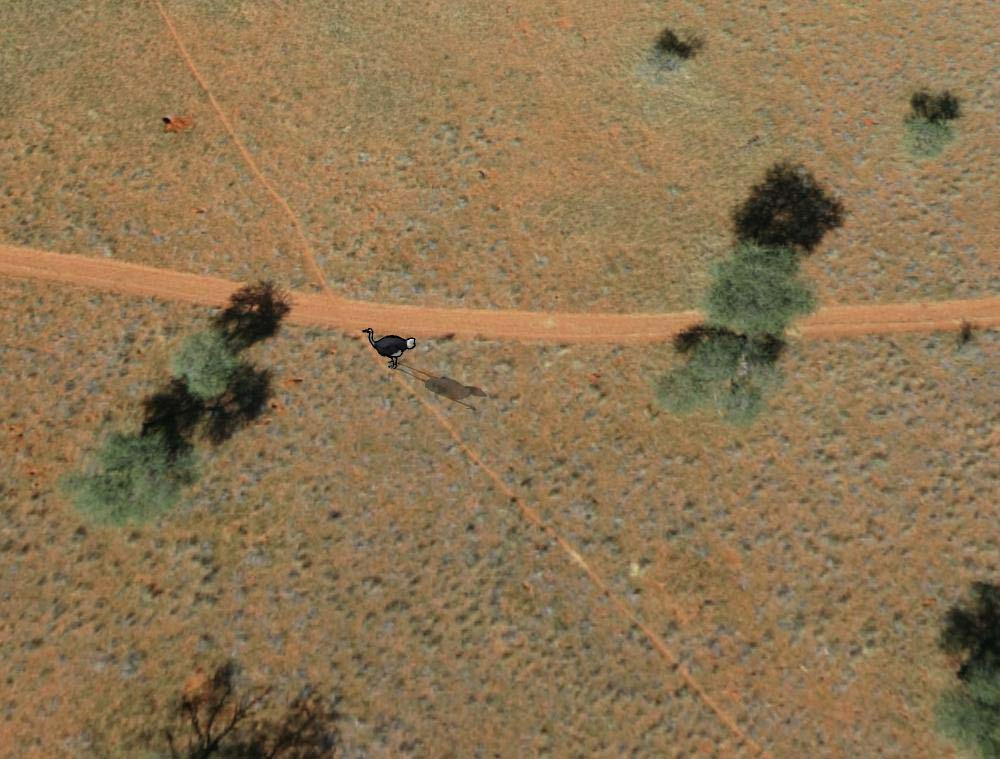ostrich: (364, 320, 413, 370)
